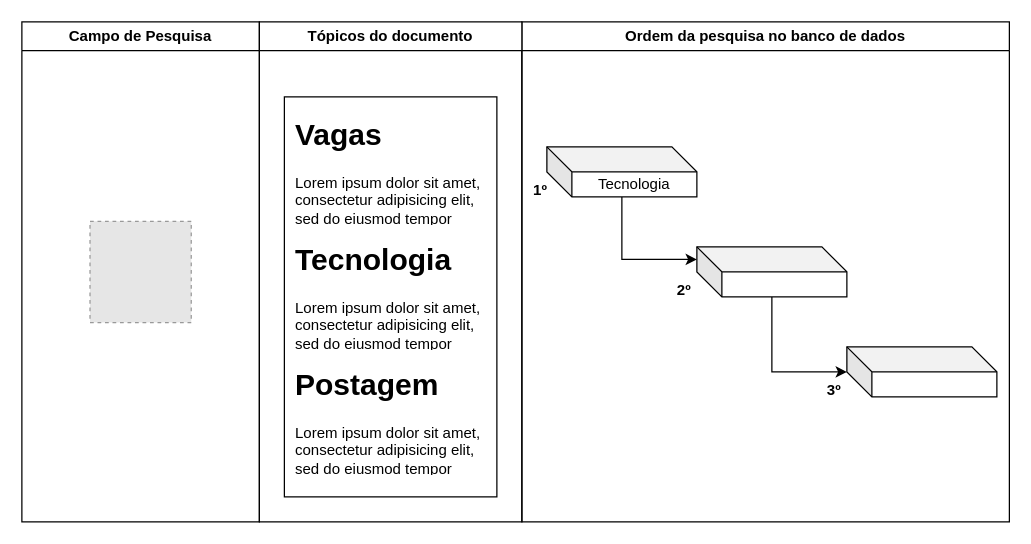
Image size: 1031x544. Some labels were removed from this diagram. Grey dashed boxes stand in for pictures. The shapes that lost their labels are listed below. From the top down, each one's centre as x and y in pixels, then its label:
the point at 771,271: Vagas
the point at 921,371: Postagem
